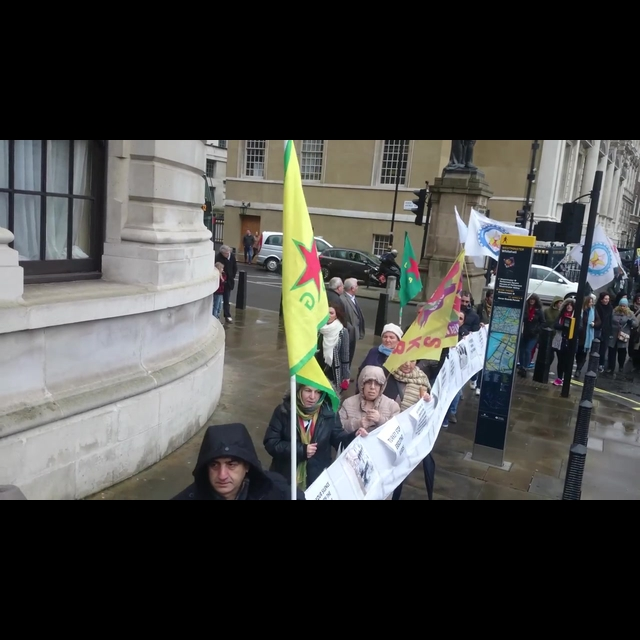YPG: (280, 139, 341, 411)
